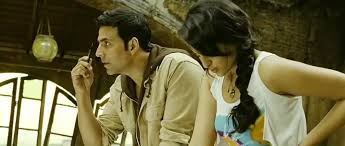Caution: (70, 1, 344, 144)
